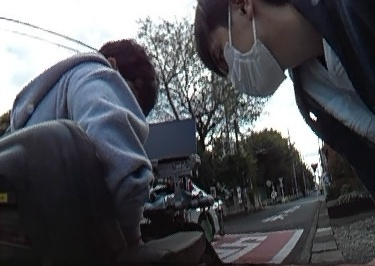person: (19, 41, 161, 266), (270, 187, 277, 205)
